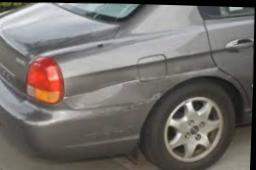Fender: (76, 73, 126, 110)
